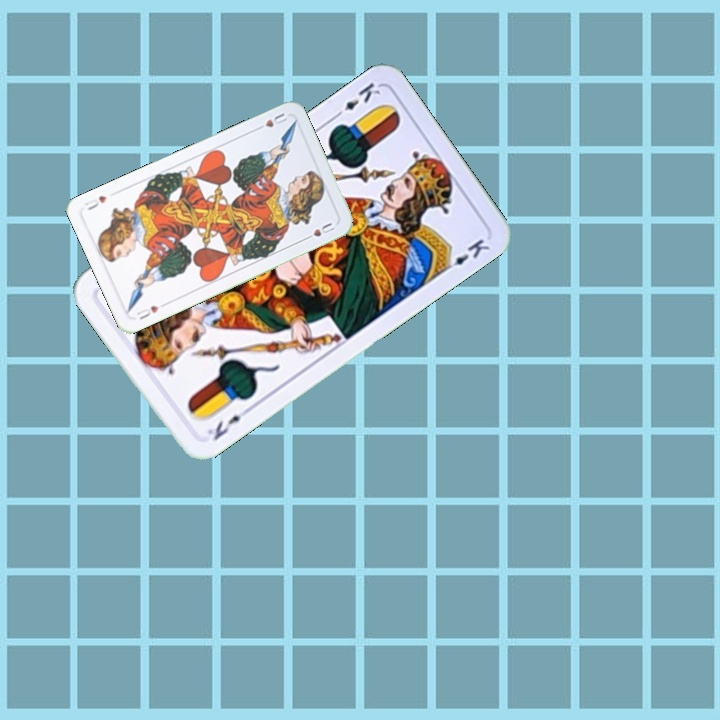EK: (329, 78, 383, 122), (202, 403, 254, 444)
HU: (251, 109, 291, 133), (133, 301, 161, 322)
